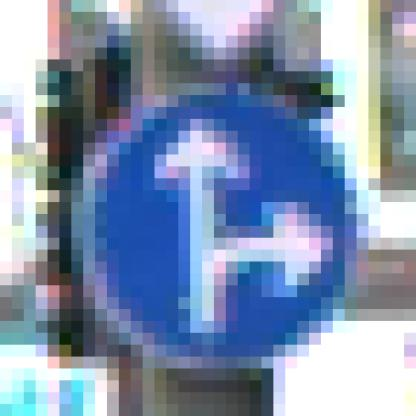Straight or Right: (72, 72, 358, 358)
